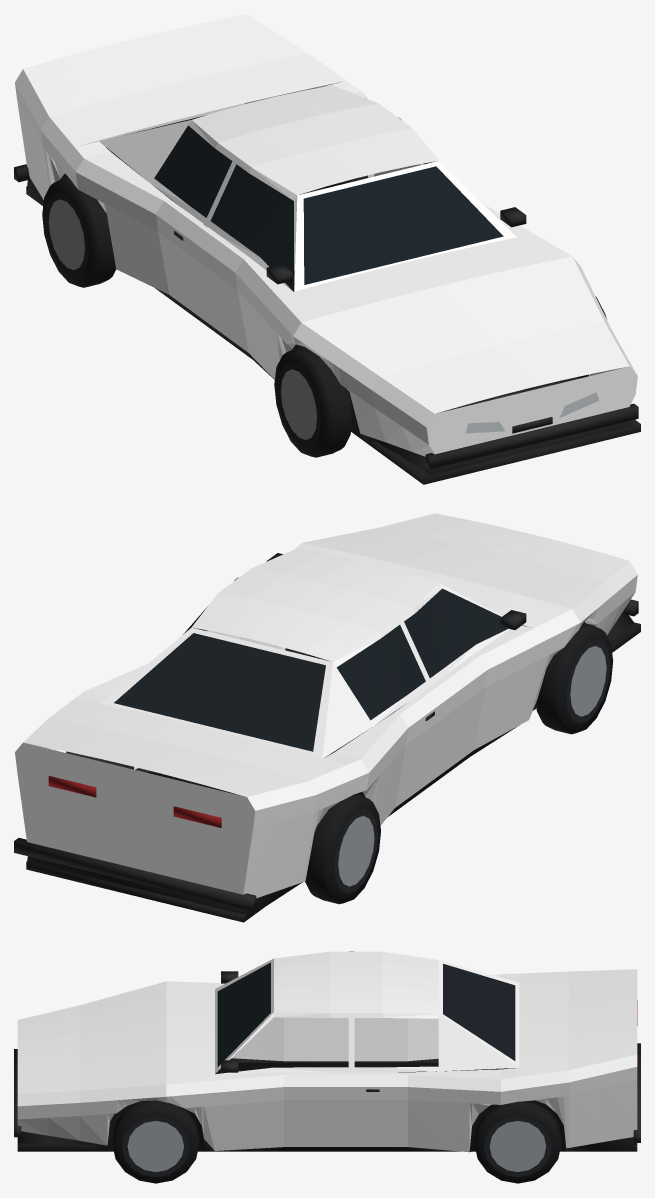
The model's file is tridella_duna.glb.
3 views of the same model, one above another, from view 1: azimuth 30°, elevation 25°; view 2: azimuth 150°, elevation 25°; view 3: azimuth 270°, elevation 25° (orthographic). The views are drawn at different scales.
Visible parts, largest first — view 1: Body_Paint, Body_Details, Mount_FrontLeft_Wheel_Details, Mount_RearLeft_Wheel_Details; view 2: Body_Paint, Body_Details, Mount_RearLeft_Wheel_Details, Mount_FrontLeft_Wheel_Details; view 3: Body_Paint, Body_Details, Mount_FrontRight_Wheel_Details, Mount_RearRight_Wheel_Details.
Part boxes in pixels (x1,y1,x2,y2): Body_Paint: (15, 14, 637, 456); Body_Details: (14, 115, 640, 484); Mount_FrontLeft_Wheel_Details: (274, 346, 352, 457); Mount_RearLeft_Wheel_Details: (42, 177, 116, 287); Body_Paint: (15, 513, 637, 898); Body_Details: (14, 553, 640, 922); Mount_RearLeft_Wheel_Details: (305, 794, 380, 904); Mount_FrontLeft_Wheel_Details: (536, 623, 613, 734); Body_Paint: (17, 951, 637, 1152); Body_Details: (14, 962, 640, 1151); Mount_FrontRight_Wheel_Details: (112, 1100, 199, 1183); Mount_RearRight_Wheel_Details: (474, 1101, 561, 1183).
Size of the model in its own units: 1.97 by 1.24 by 4.68.
2 materials, 1 textured.
